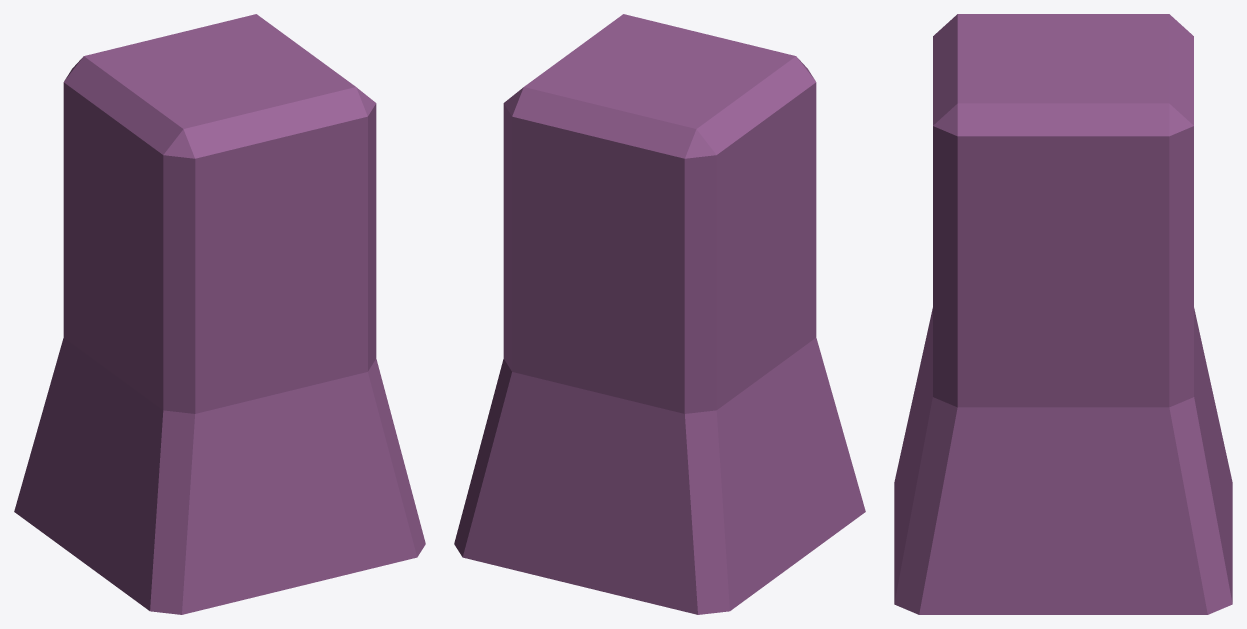
Rendered from 3D_enemy.FBX.
3 views of the same model, side by side, from view 1: azimuth 30°, elevation 25°; view 2: azimuth 150°, elevation 25°; view 3: azimuth 270°, elevation 25° (orthographic). The views are drawn at different scales.
Parts seen in each view (by area): view 1: 3D_Enemy; view 2: 3D_Enemy; view 3: 3D_Enemy.
Part boxes in pixels (<box>): 3D_Enemy: <box>14,14,425,614</box>; 3D_Enemy: <box>454,14,865,614</box>; 3D_Enemy: <box>894,14,1232,614</box>.
Size of the model in its own units: 70 by 111 by 70.
Materials: 1 (1 with a texture image).
